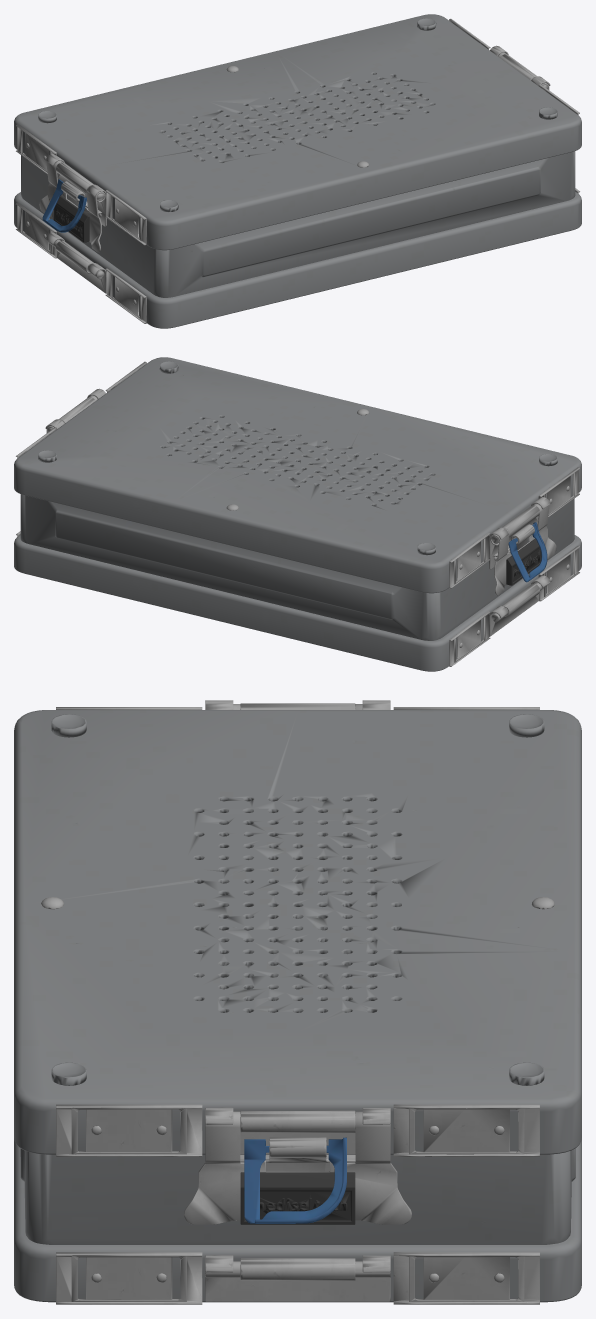
File: tray_sterilization_instrument_c02.glb
The picture shows the model from 3 angles, top to bottom: view 1: azimuth 30°, elevation 25°; view 2: azimuth 150°, elevation 25°; view 3: azimuth 270°, elevation 25°; orthographic projection. The views are drawn at different scales.
Parts seen in each view (by area): view 1: body_01_mesh_00 (×2), body_02_mesh_00, clip_02_mesh_00, lock_02_mesh_00; view 2: body_01_mesh_00 (×2), body_02_mesh_00, clip_02_mesh_00, lock_02_mesh_00; view 3: body_01_mesh_00 (×2), body_02_mesh_00, clip_01_mesh_00, lock_01_mesh_00.
Part boxes in pixels (bbox=[...]): body_01_mesh_00 (×2): bbox=[14, 14, 581, 328]; body_02_mesh_00: bbox=[21, 151, 575, 297]; clip_02_mesh_00: bbox=[39, 160, 105, 252]; lock_02_mesh_00: bbox=[42, 179, 86, 232]; body_01_mesh_00 (×2): bbox=[14, 357, 581, 671]; body_02_mesh_00: bbox=[20, 494, 574, 640]; clip_02_mesh_00: bbox=[490, 503, 556, 595]; lock_02_mesh_00: bbox=[508, 522, 547, 582]; body_01_mesh_00 (×2): bbox=[14, 700, 581, 1304]; body_02_mesh_00: bbox=[20, 1137, 575, 1244]; clip_01_mesh_00: bbox=[184, 1111, 411, 1224]; lock_01_mesh_00: bbox=[244, 1137, 346, 1223].
Bounding box in the file's own units: 0.3534 × 0.1006 × 0.1898.
Materials: 4 (3 with a texture image).
